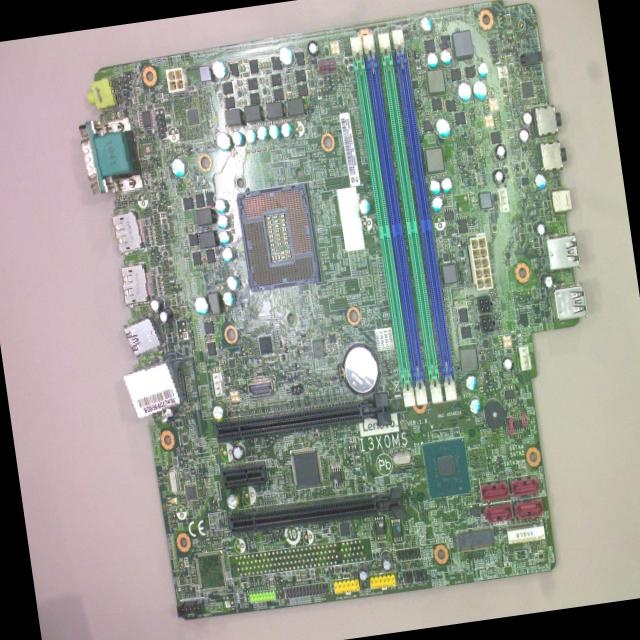Lenovo_I3X0MS: (51, 1, 628, 627)
